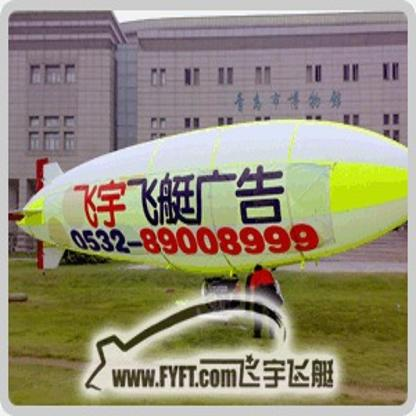Airship: (9, 116, 416, 284)
